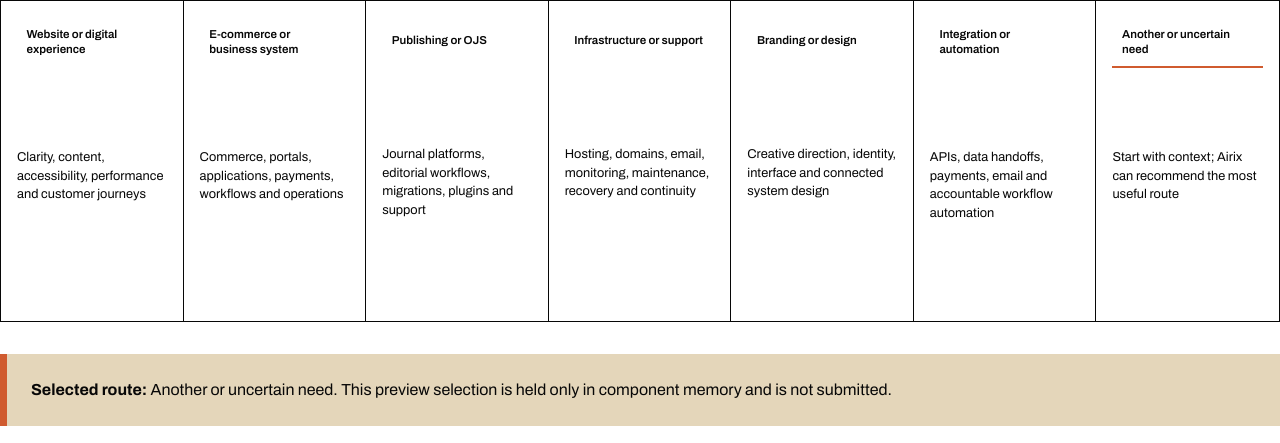
Atlas W7 › selects a project route in component state
Step 1. Click the button "Publishing or OJS" → (457, 41), box [382, 17, 532, 65]
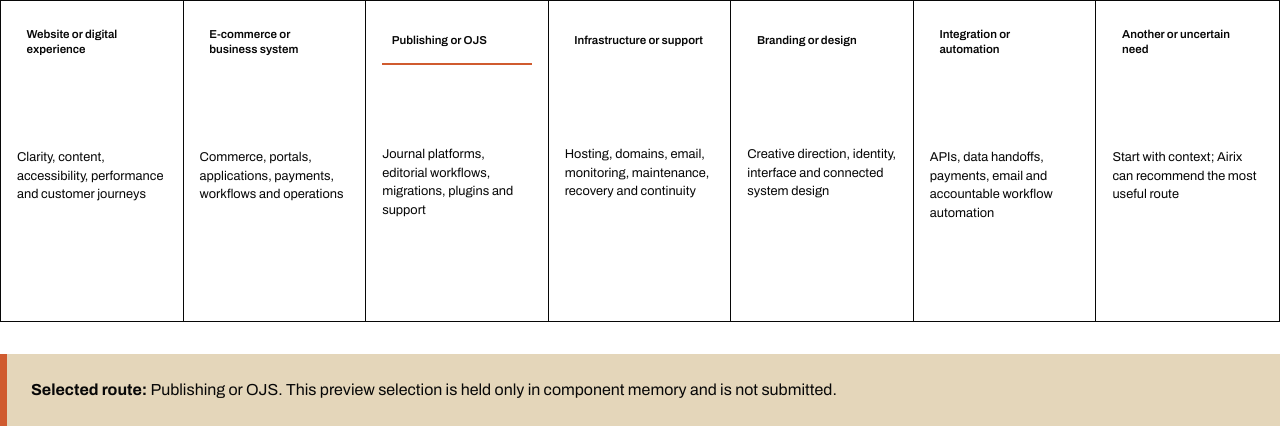
Check: the message shows "Publishing or OJS", box [151, 381, 278, 398]
